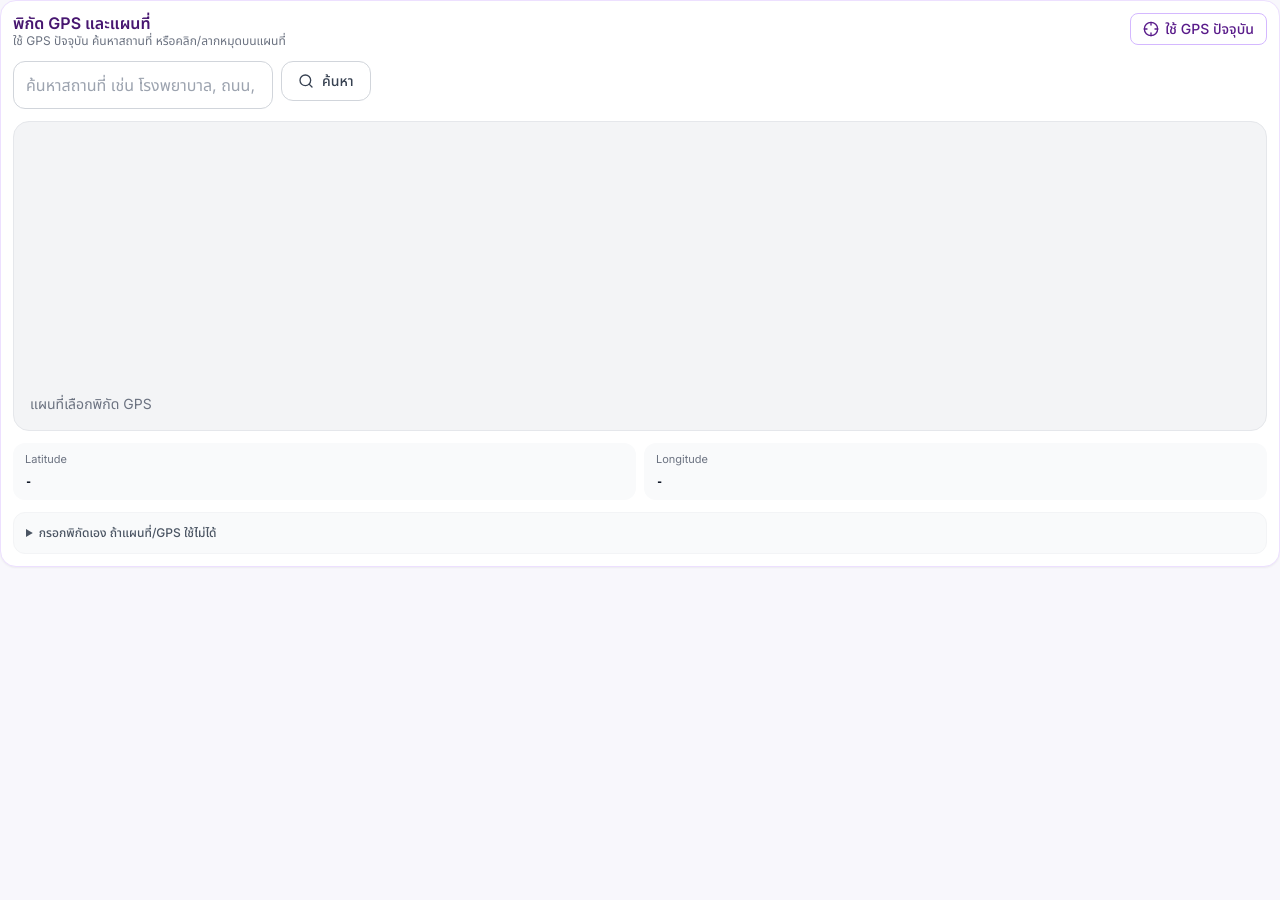
Scenario: GpsPicker › searches through the location API proxy and pins the selected result
Type "ตำบลบางรัก ตรัง" into the field labelled "ค้นหาสถานที่" at x=143, y=85, box x1=13 y1=61 x2=273 y2=109
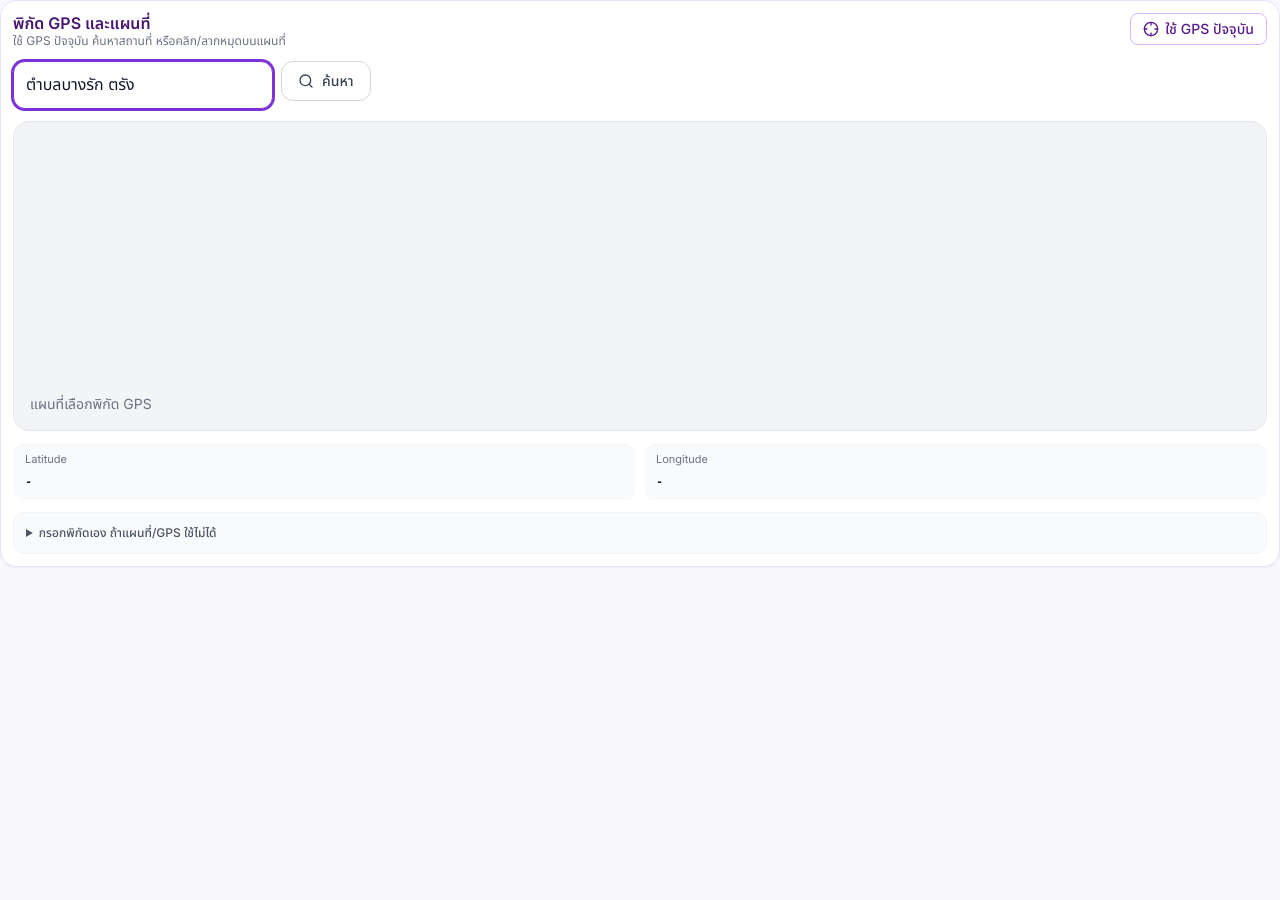
Click the button "ค้นหา" at x=326, y=81, box x1=281 y1=61 x2=371 y2=101
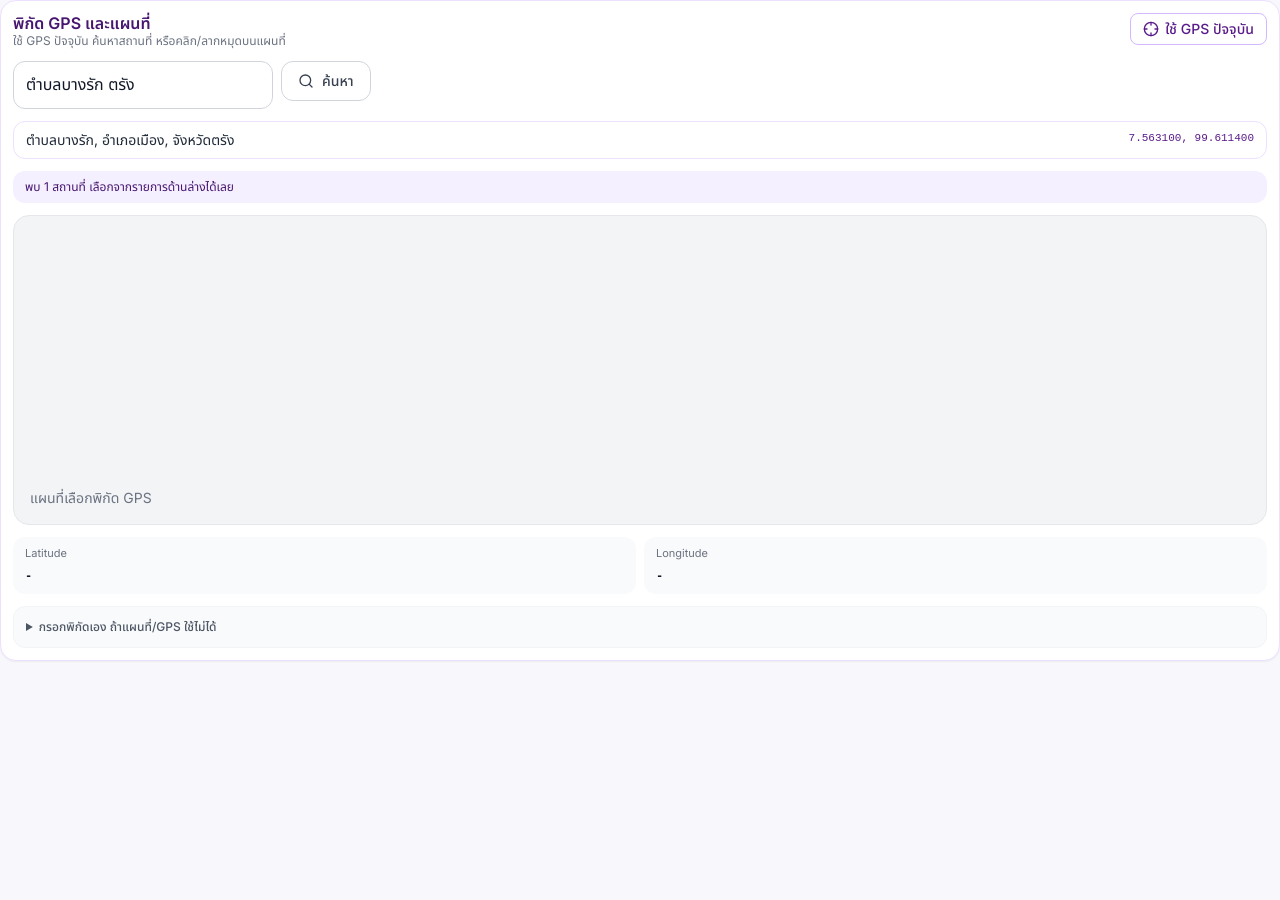
Click the button "ตำบลบางรัก, อำเภอเมือง, จังหวัดตรัง 7.563100, 99.611400" at x=130, y=140, box x1=13 y1=121 x2=1267 y2=159
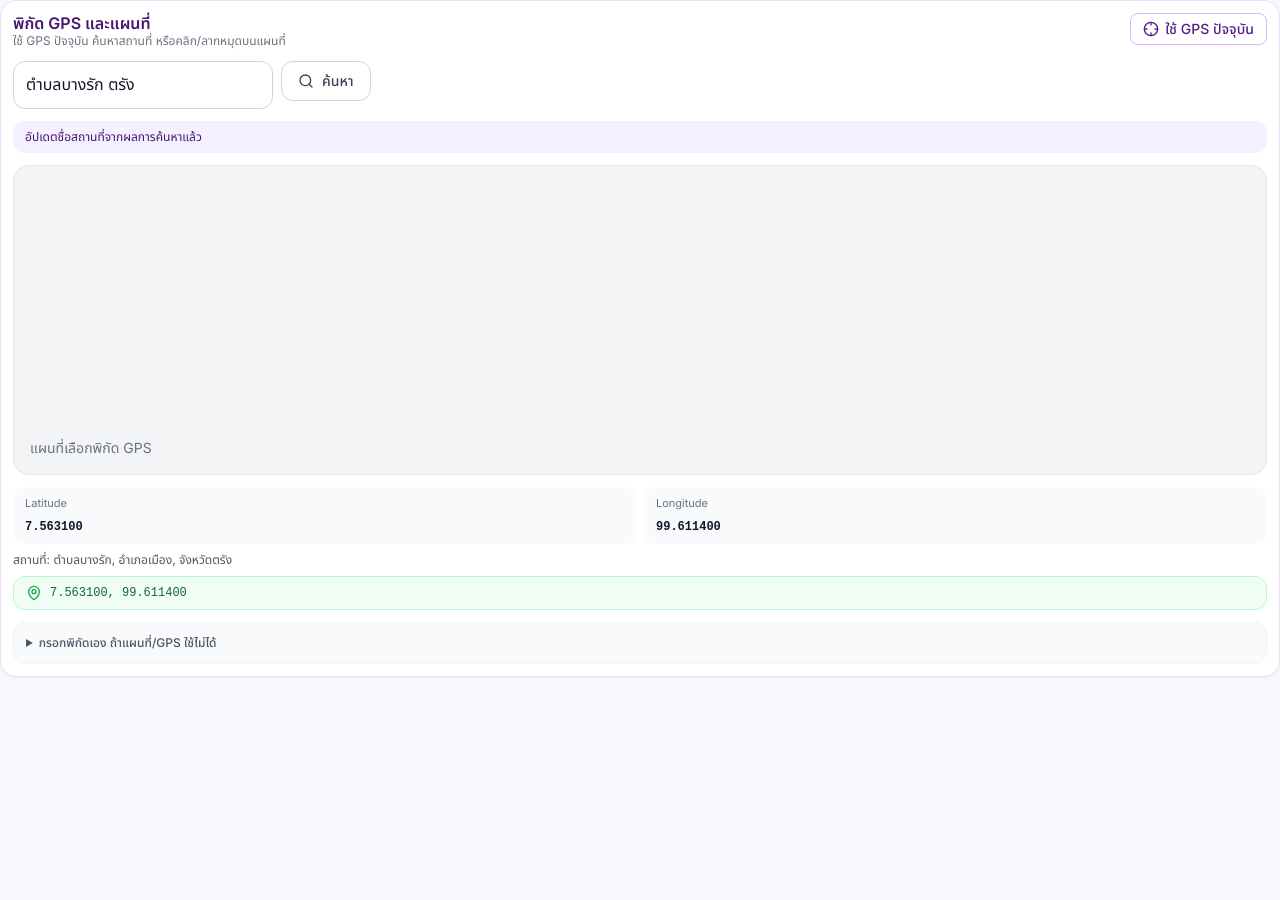
expect the text "7.563100" is shown: met, box x1=25 y1=520 x2=83 y2=534
expect the text "99.611400" is shown: met, box x1=656 y1=520 x2=721 y2=534
